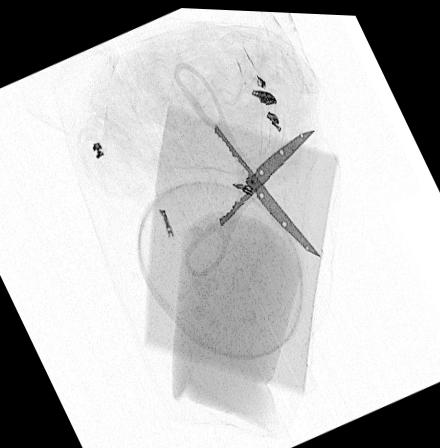Scissors: (170, 57, 323, 275)
